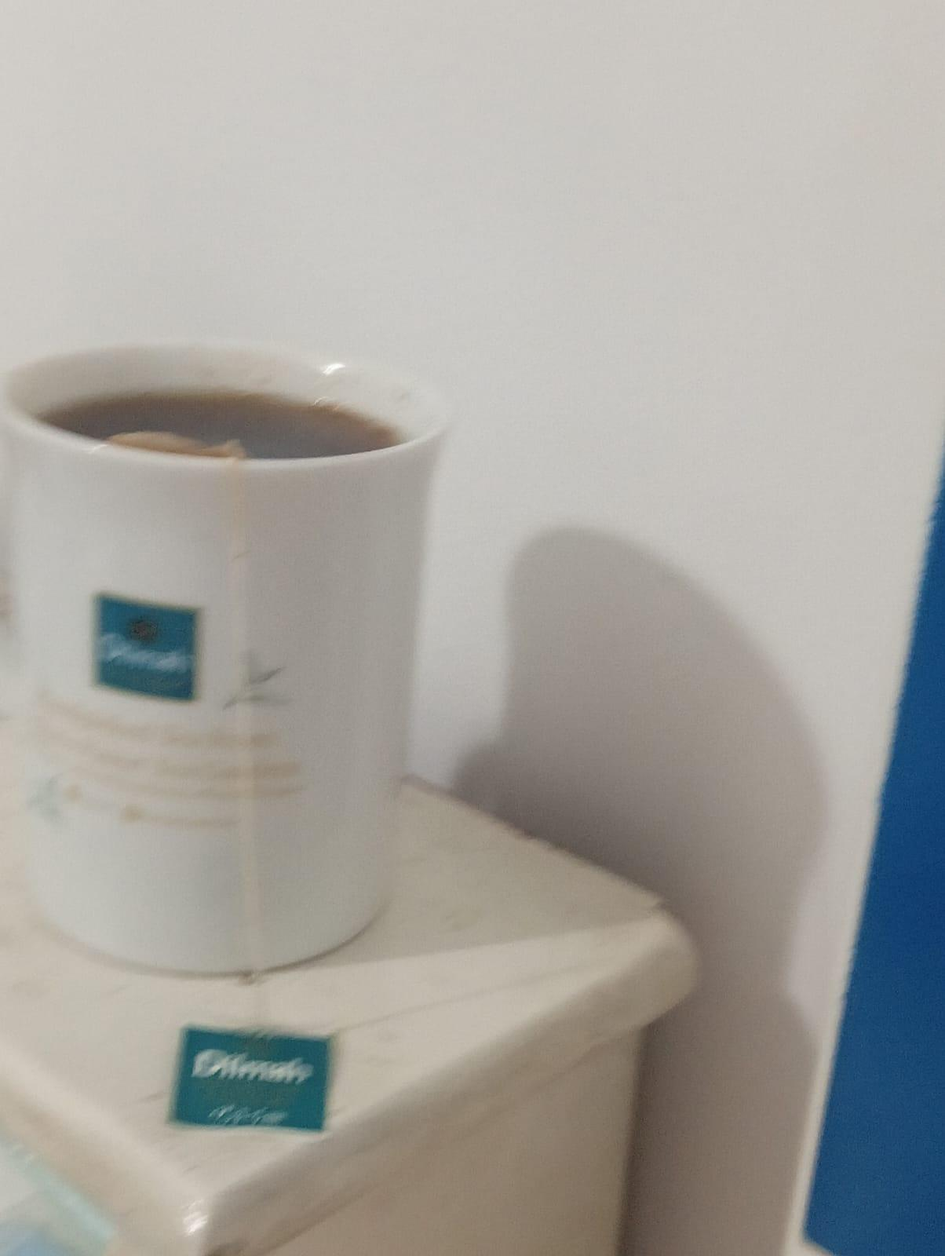cup: (2, 344, 440, 972)
